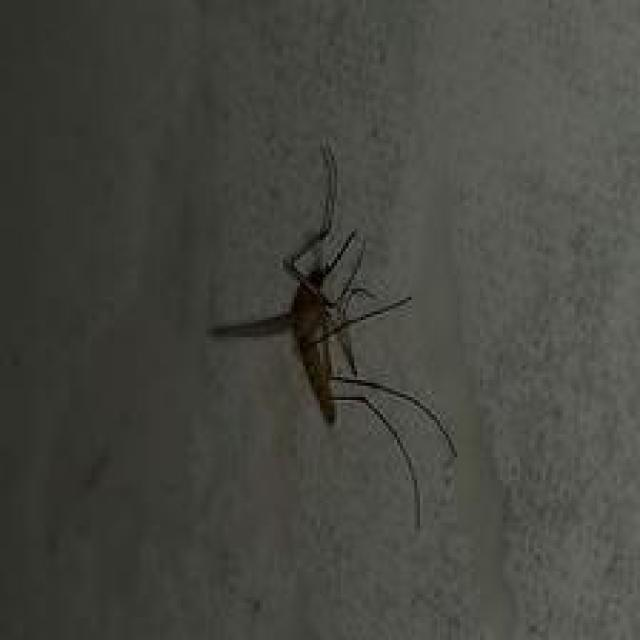Culex: (207, 137, 459, 532)
